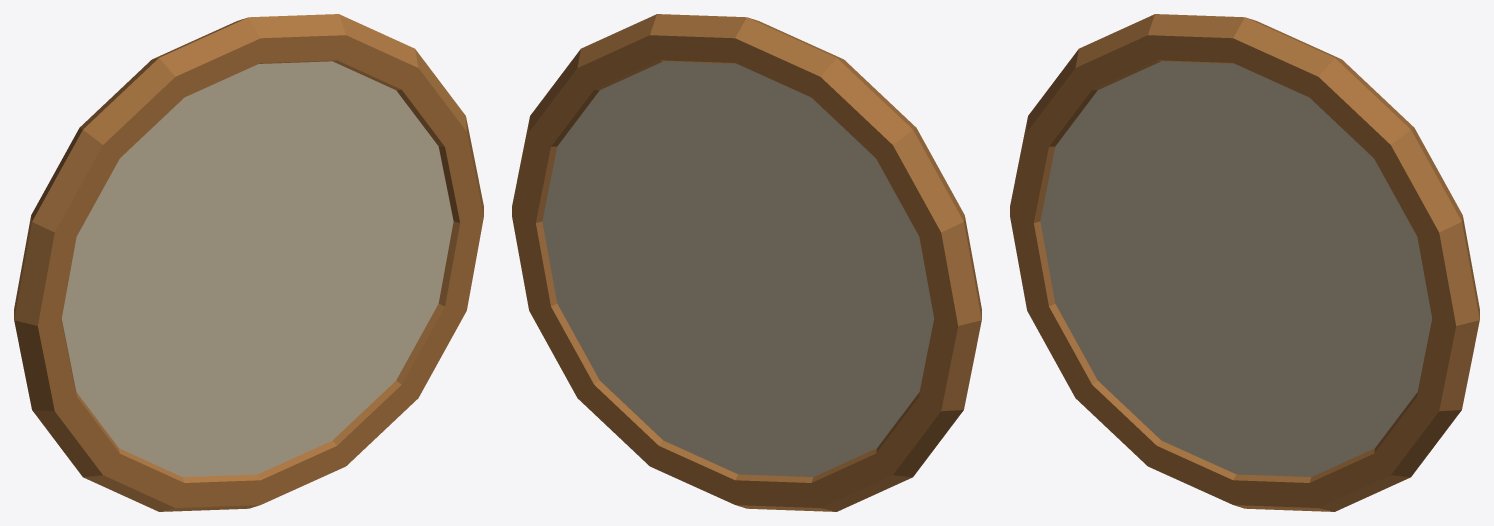
Rendered from emblem.glb.
3 views of the same model, side by side, from view 1: azimuth 30°, elevation 25°; view 2: azimuth 150°, elevation 25°; view 3: azimuth 330°, elevation 25° (orthographic).
Visible parts, largest first — view 1: emblem; view 2: emblem; view 3: emblem.
Boxes of the visible parts, bbox=[...] form: emblem: bbox=[14, 14, 483, 511]; emblem: bbox=[512, 14, 981, 511]; emblem: bbox=[1010, 14, 1479, 511].
Bounding box in the file's own units: 0.556 × 0.556 × 0.0485.
